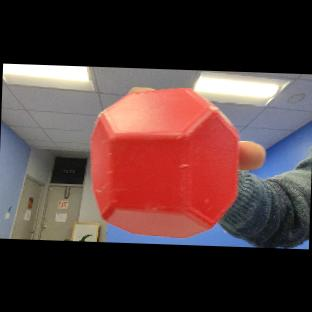V5_RED: (88, 81, 242, 241)
